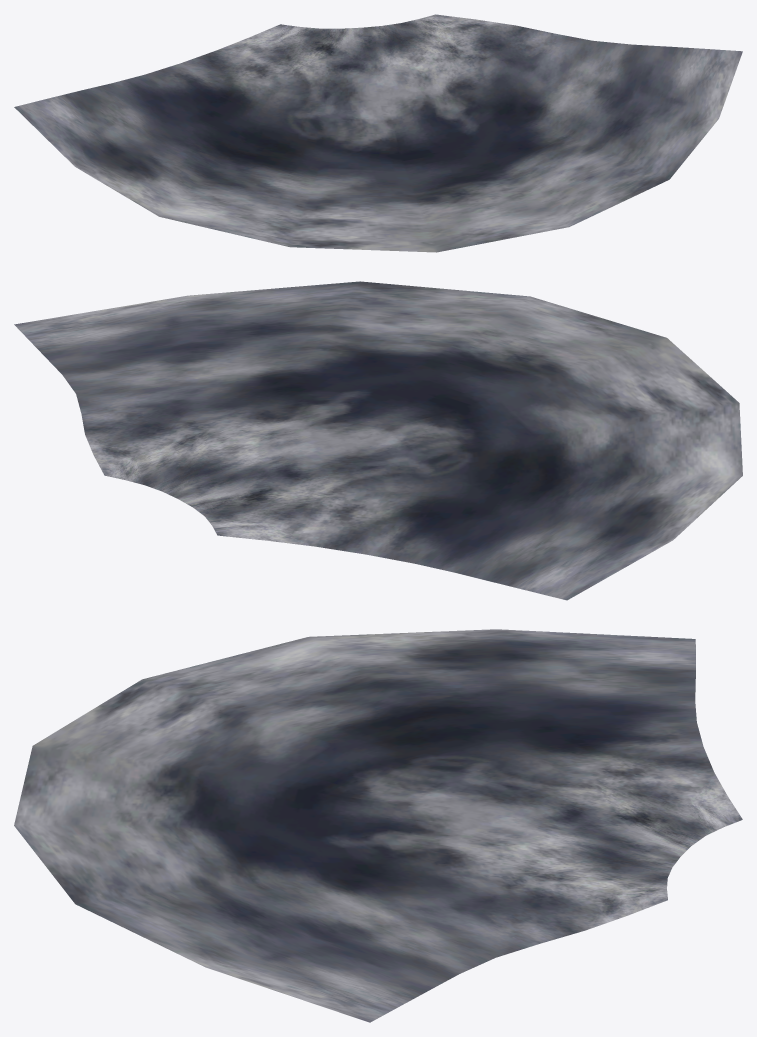
File: CB_NEWPLAYSURFACE_CB_WATERFALLS08.fbx
3 views of the same model, one above another, from view 1: azimuth 30°, elevation 25°; view 2: azimuth 150°, elevation 25°; view 3: azimuth 270°, elevation 25° (orthographic). The views are drawn at different scales.
Visible parts, largest first — view 1: CB_NEWPLAYSURFACE_CB_WATERFALLS08; view 2: CB_NEWPLAYSURFACE_CB_WATERFALLS08; view 3: CB_NEWPLAYSURFACE_CB_WATERFALLS08.
Boxes of the visible parts, x1,y1,x2,y2 form: CB_NEWPLAYSURFACE_CB_WATERFALLS08: [14, 14, 742, 252]; CB_NEWPLAYSURFACE_CB_WATERFALLS08: [14, 281, 742, 600]; CB_NEWPLAYSURFACE_CB_WATERFALLS08: [14, 629, 742, 1022].
Size of the model in its own units: 174188 by 1594 by 136358.
1 material, 1 textured.
